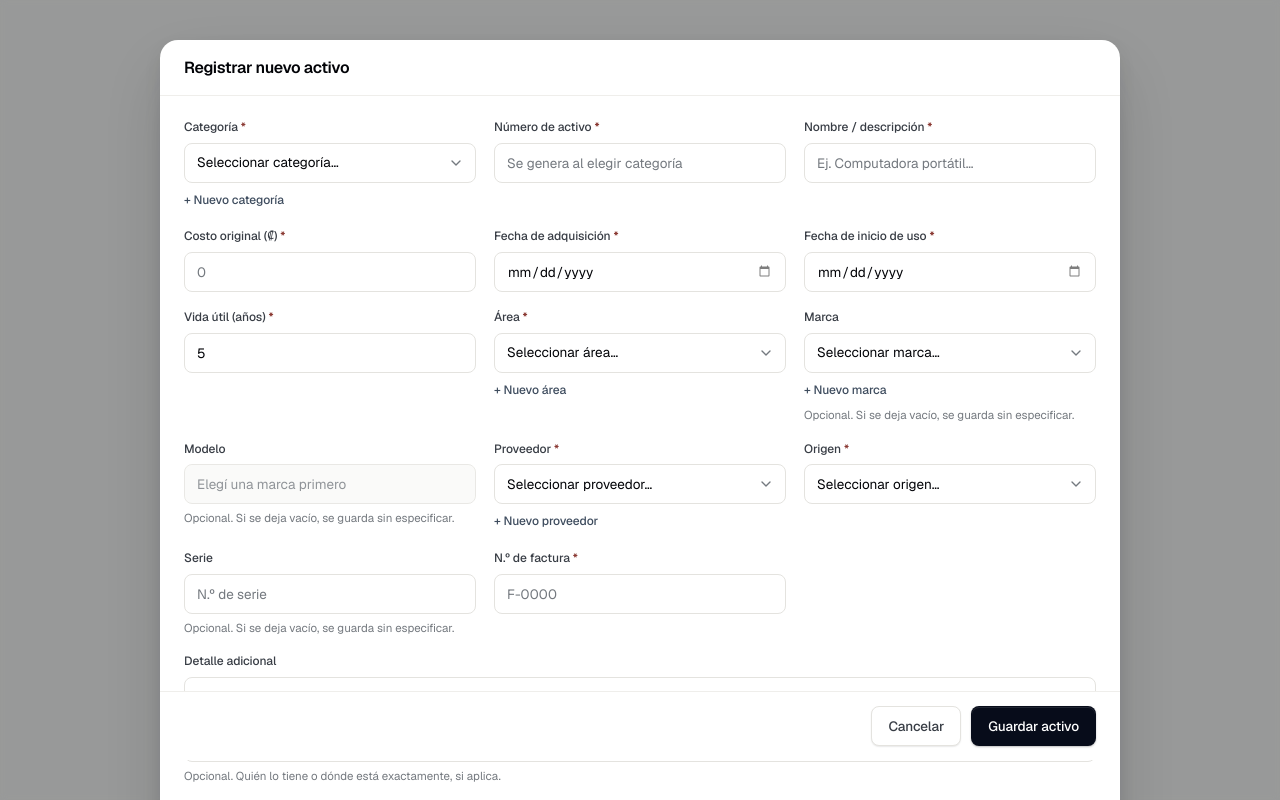
Scenario: CrearActivoModal › muestra el estimado de depreciación una vez completados costo, vida útil y fecha de uso
Type "500000" into the field labelled "Costo original (₡) *" at (330, 272), box [184,252,476,292]
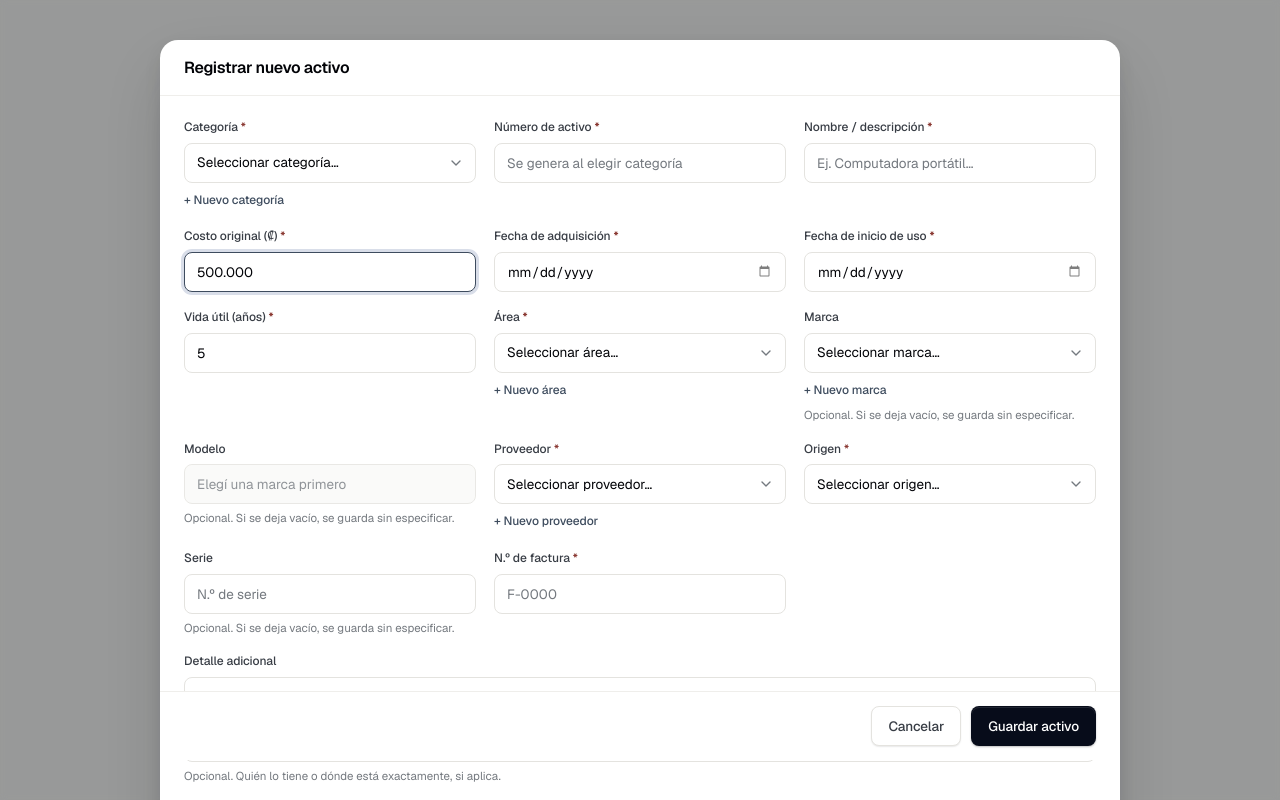
Type "2024-01-15" into the date field labelled "Fecha de inicio de uso *" at (950, 272), box [804,252,1096,292]
(page scrolled)
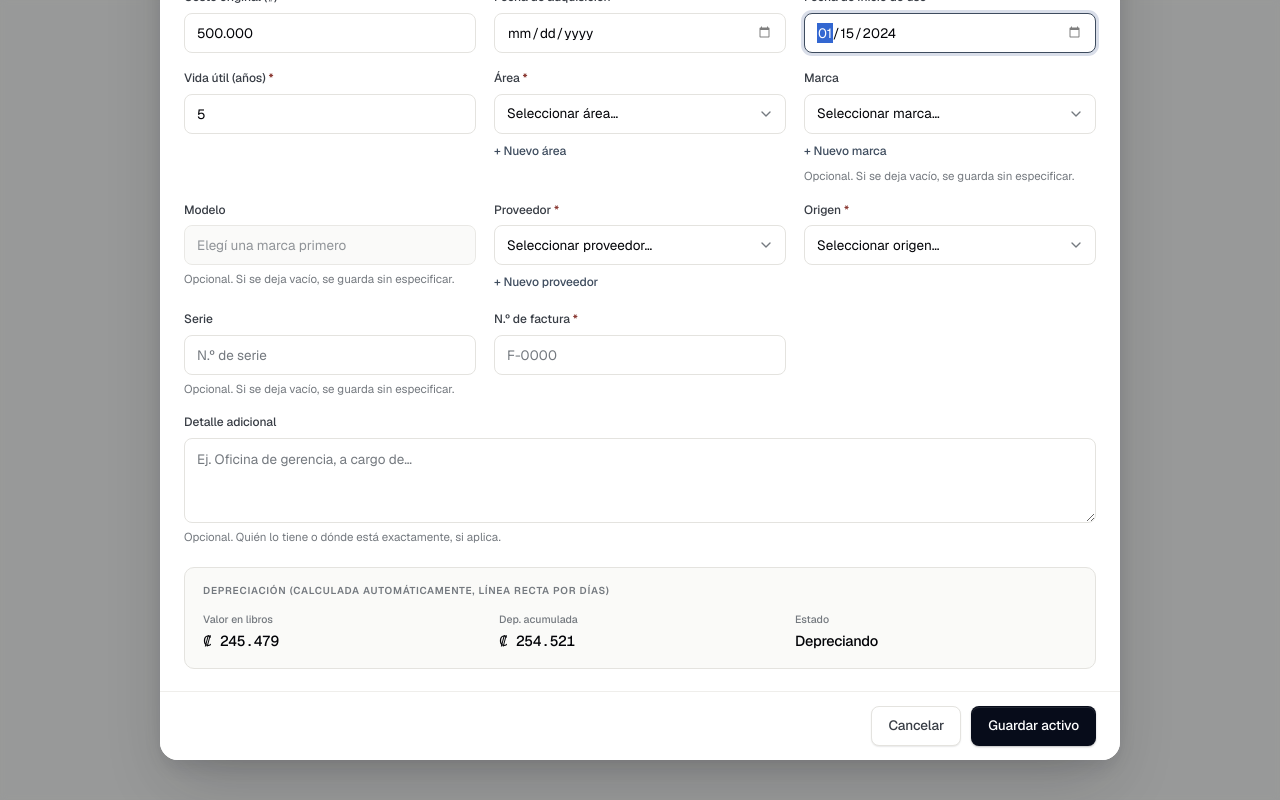
Expected: the text "Valor en libros" is shown, [203,612,273,626]
Expected: the text "Dep. acumulada" is shown, [499,612,578,626]
